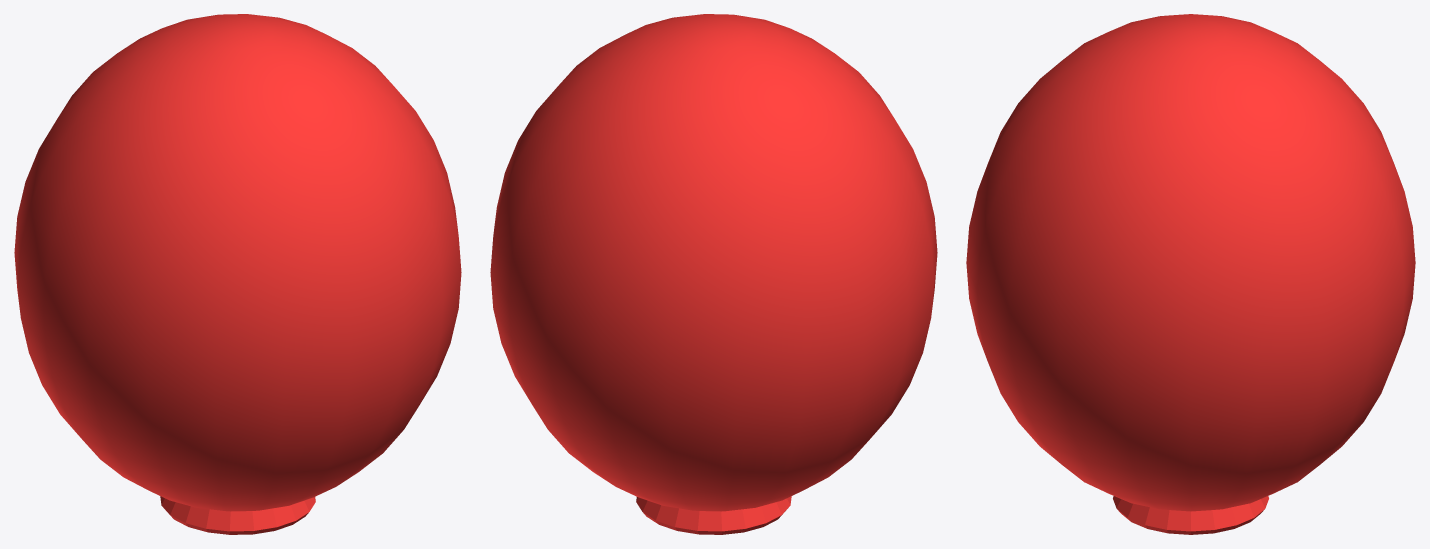
Rendered from redBalloon.fbx.
The picture shows the model from 3 angles, left to right: view 1: azimuth 30°, elevation 25°; view 2: azimuth 150°, elevation 25°; view 3: azimuth 270°, elevation 25°; orthographic projection.
Visible parts, largest first — view 1: pSphere1; view 2: pSphere1; view 3: pSphere1.
Boxes of the visible parts, x1,y1,x2,y2 form: pSphere1: (14, 14, 461, 534); pSphere1: (490, 14, 937, 534); pSphere1: (966, 14, 1415, 534).
Bounding box in the file's own units: 3 × 3.56 × 3.
1 material, 1 textured.
